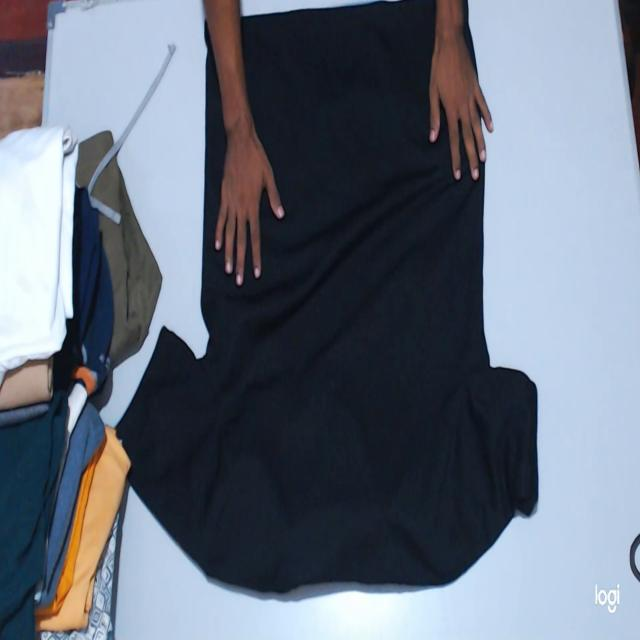new-garment: (120, 0, 538, 591)
